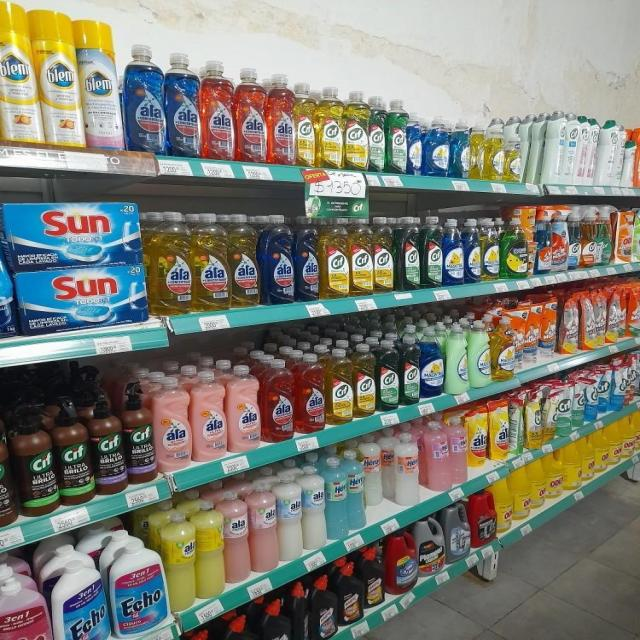ala_conc_amarillo: (148, 211, 192, 316), (193, 212, 229, 312), (230, 213, 260, 308)
ala_conc_azul: (124, 41, 165, 154), (166, 50, 200, 157), (261, 213, 294, 304), (295, 215, 319, 302)
ala_conc_rojo: (201, 58, 235, 160), (236, 66, 267, 163), (262, 358, 294, 443), (268, 70, 295, 165), (296, 352, 324, 434)
ala_crem_amarillo: (164, 507, 196, 612), (197, 498, 224, 600)
ala_crem_blanco: (279, 470, 302, 562), (303, 464, 326, 550), (326, 454, 347, 542)
ala_crem_rosado: (250, 480, 278, 574), (224, 488, 250, 586)
ala_sachet_amarillo: (468, 404, 487, 468), (489, 397, 508, 461)
ala_ultra_rosa: (154, 372, 191, 472), (192, 366, 226, 462), (227, 363, 261, 452)
cif_conc_bot_amarilla: (320, 217, 350, 299), (326, 344, 353, 425), (317, 85, 343, 168), (344, 89, 368, 171), (350, 216, 373, 296), (295, 82, 316, 166), (373, 216, 395, 293), (354, 342, 376, 418)
cif_conc_botella_verde: (397, 215, 420, 291), (378, 336, 400, 412), (387, 97, 407, 174), (422, 215, 442, 288), (400, 333, 420, 406), (368, 94, 386, 172)
heroe: (394, 428, 420, 506), (424, 420, 450, 491), (348, 448, 365, 534), (449, 414, 466, 488)
magistral_con_amarillo: (485, 120, 504, 182), (482, 217, 499, 281), (505, 126, 523, 182)
magistral_con_azul: (421, 328, 444, 398), (425, 115, 450, 177), (443, 217, 463, 286), (451, 118, 470, 178), (464, 218, 481, 284), (407, 114, 423, 176)
magistral_con_crema: (446, 320, 468, 394), (469, 317, 491, 388)
